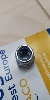Nut: (12, 44, 37, 68)
